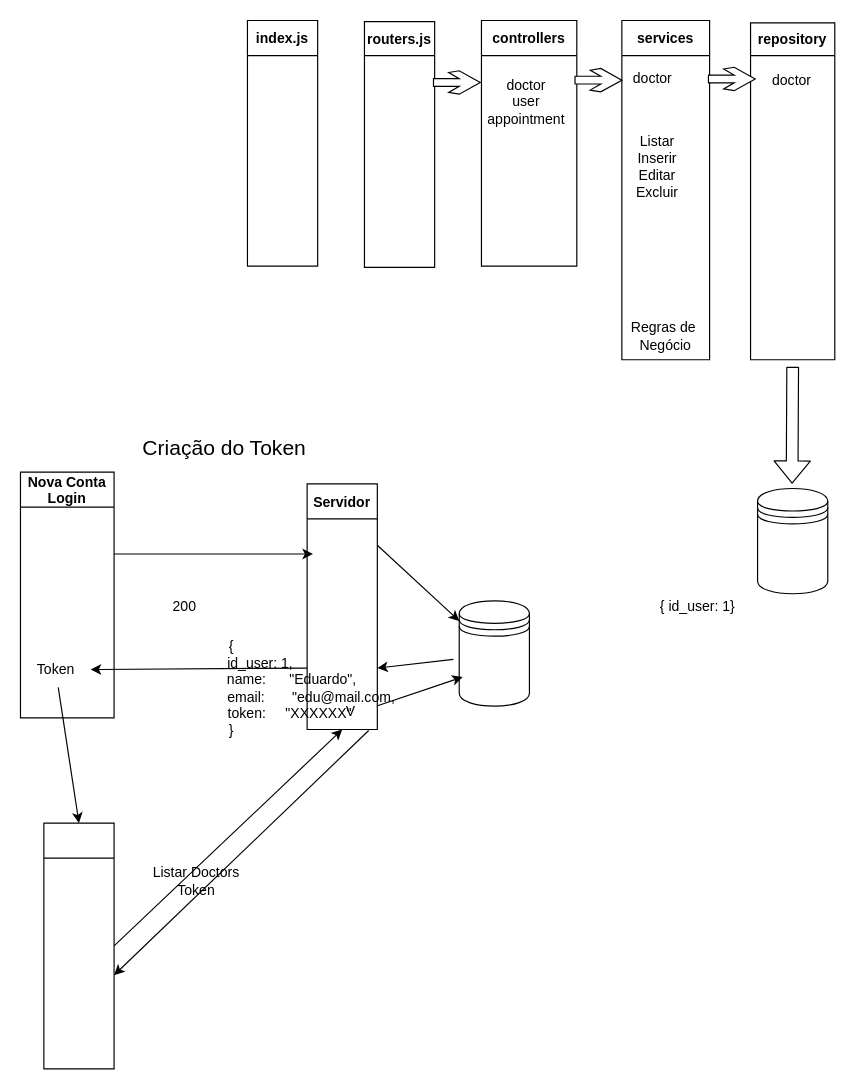
Image size: 855x1089. Some labels were removed from this diagram. The shapes that lost their labels are listed below. From the top down, each one's centre as x and y in pixels, then its label:
At (493,653): "JWT Token".
At (78,945): "Home".
